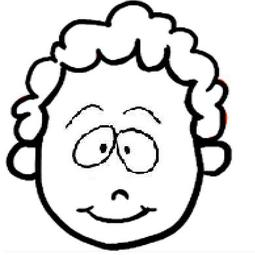ear: (3, 141, 48, 183), (196, 140, 238, 175)
eye: (73, 122, 116, 174), (115, 128, 161, 175)
eyebrow: (117, 98, 168, 126), (61, 99, 104, 131)
mouth: (71, 203, 165, 227)
nose: (101, 186, 135, 203)
